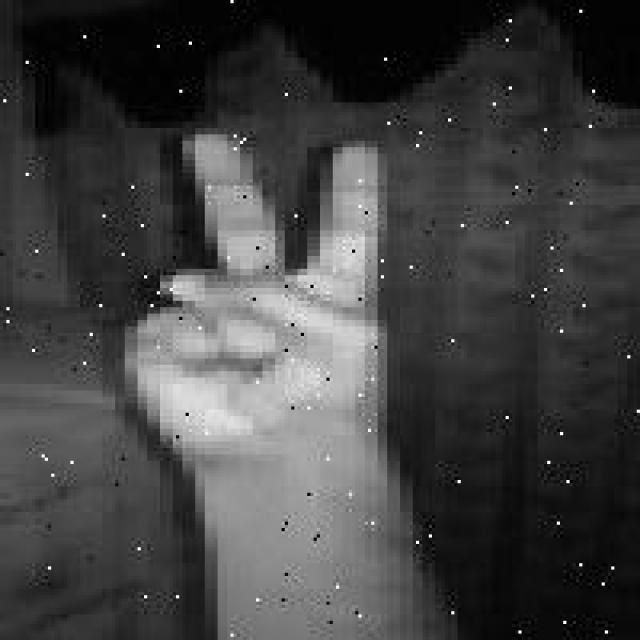V: (107, 120, 405, 456)
